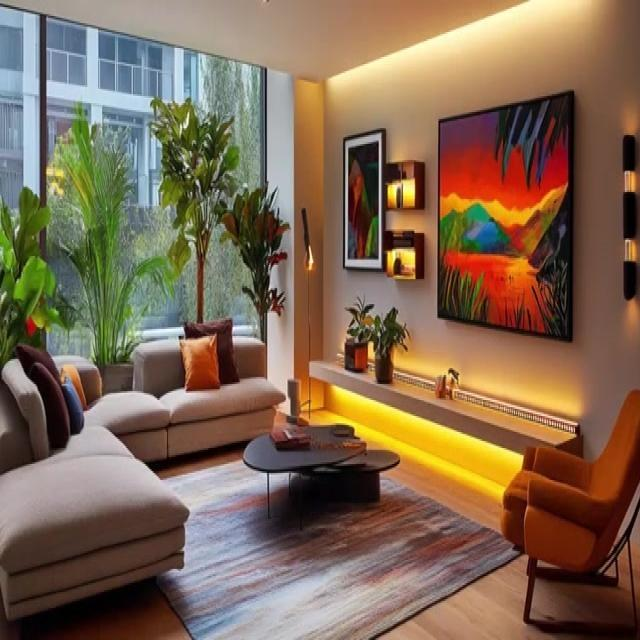obstacle: (0, 343, 189, 638), (500, 387, 639, 633), (131, 332, 285, 462), (243, 424, 400, 510)
